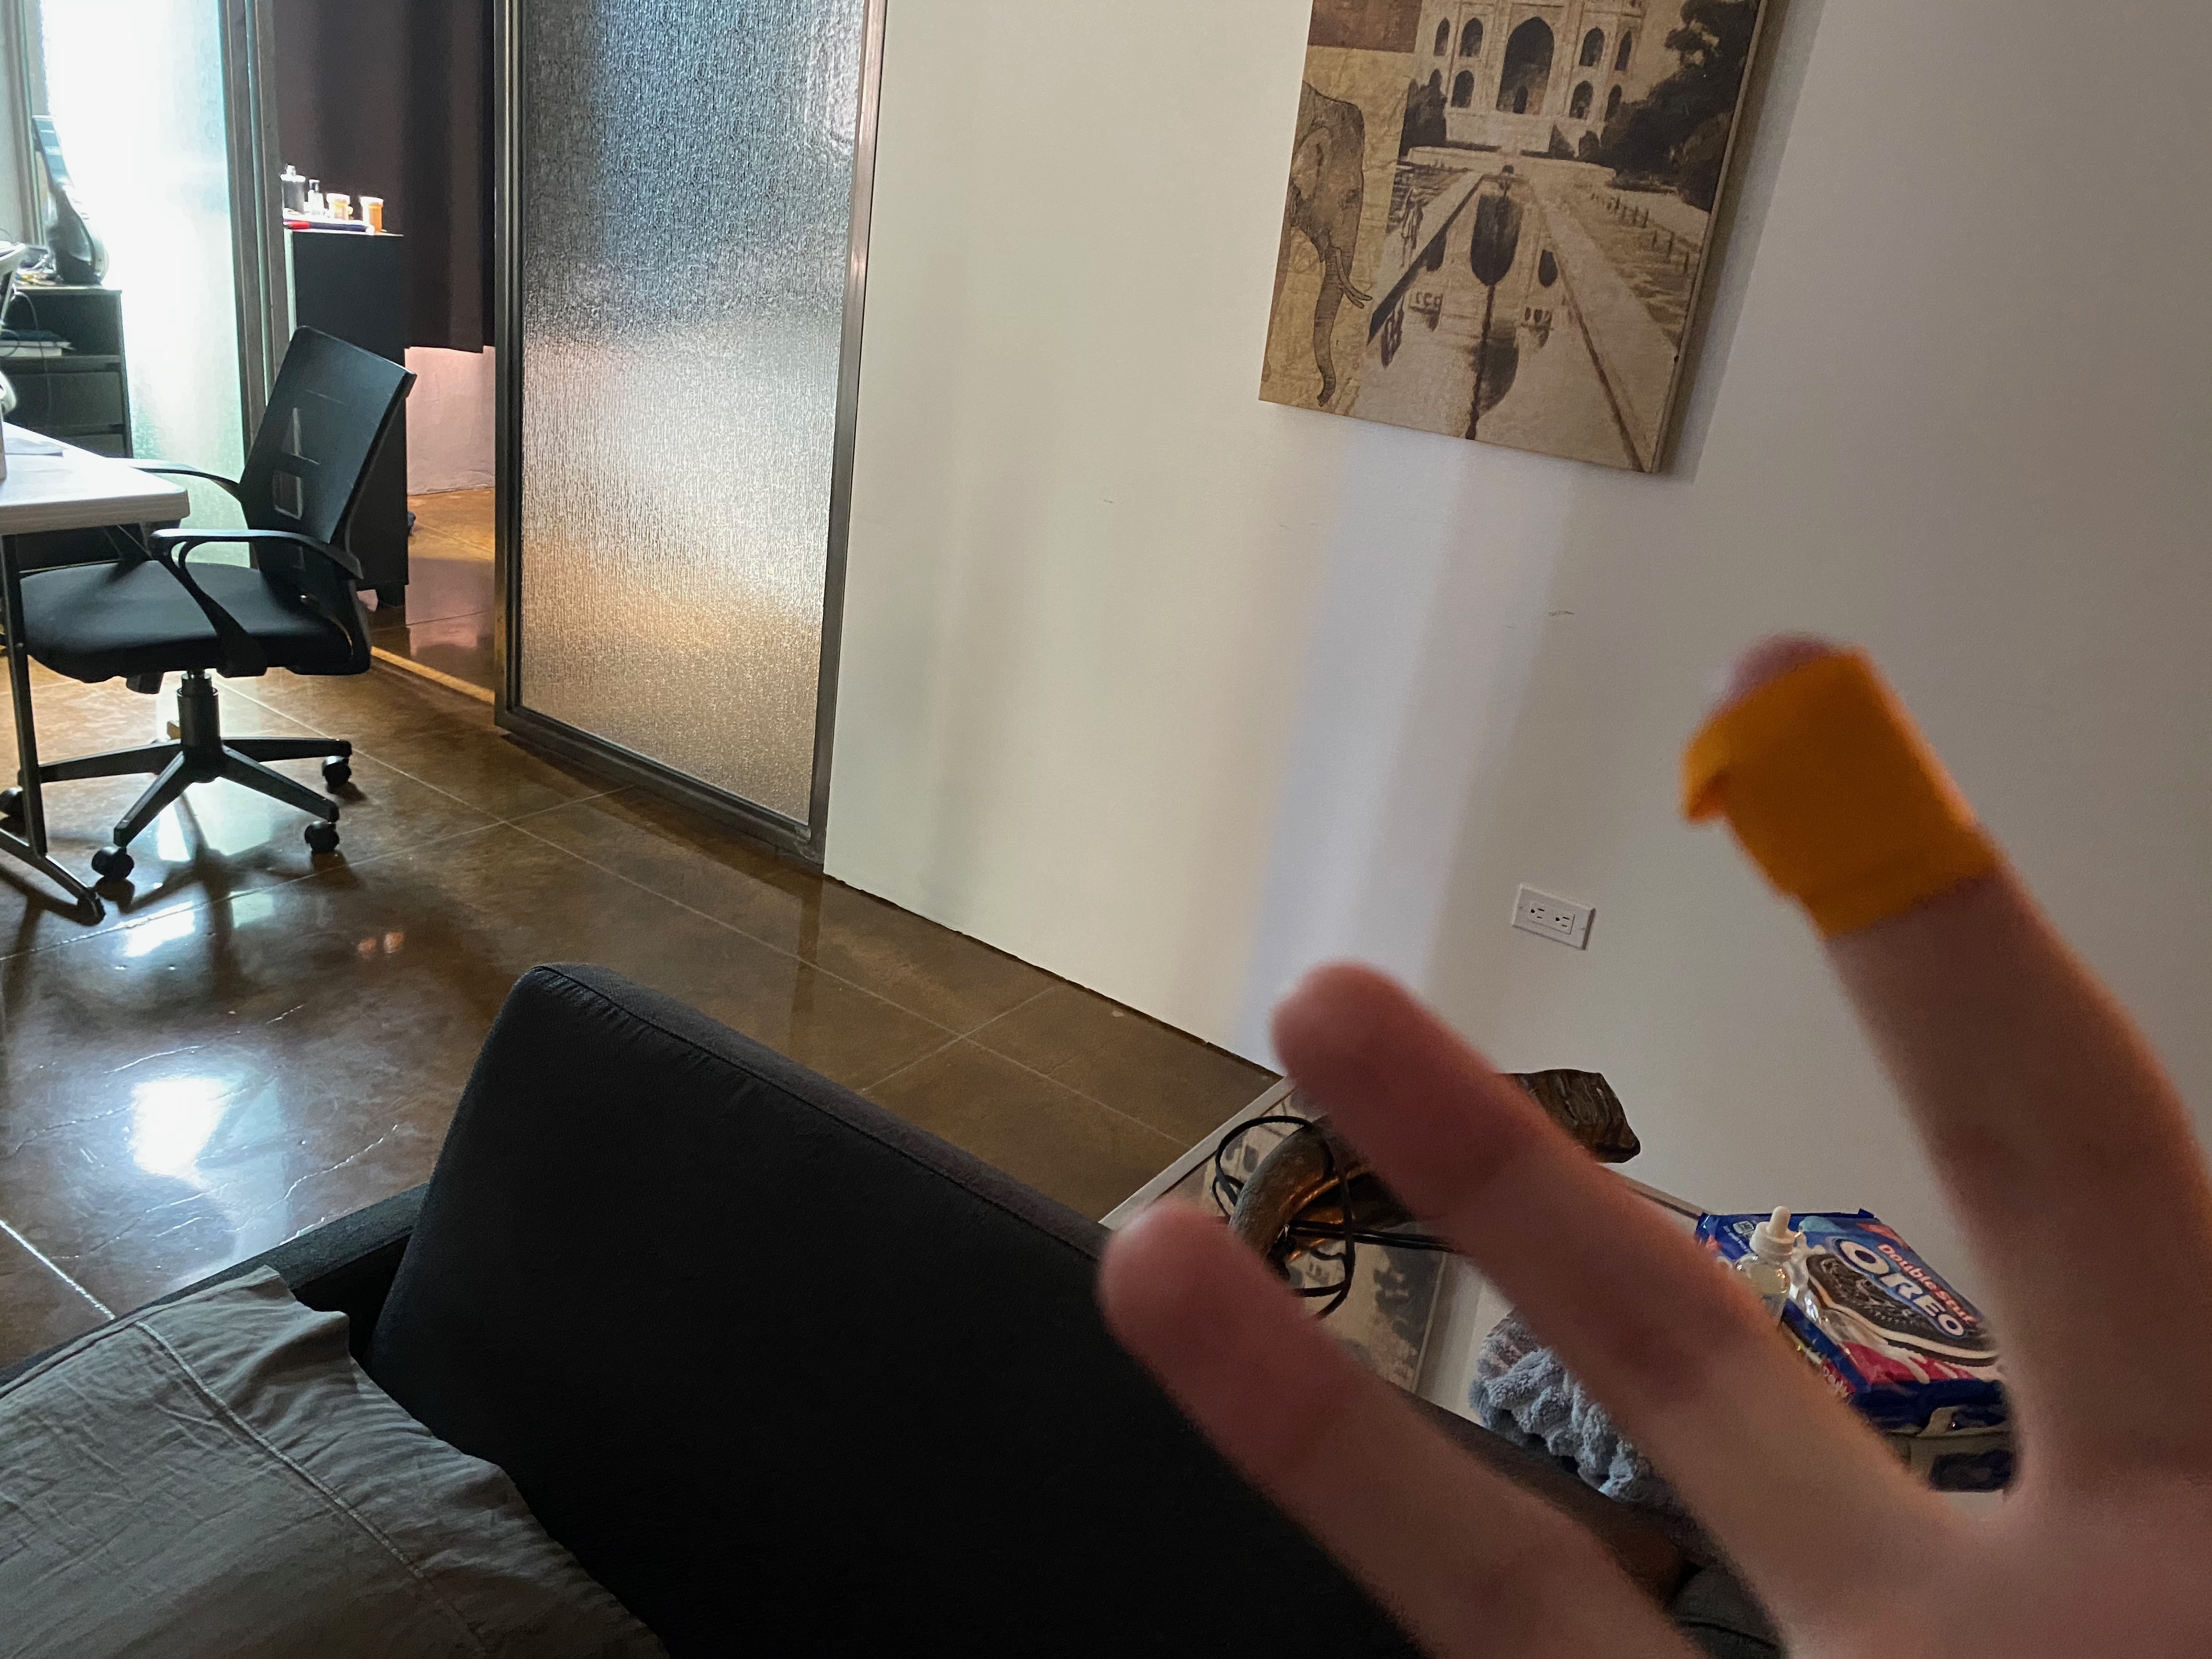fingertip: (1648, 619, 2008, 979)
